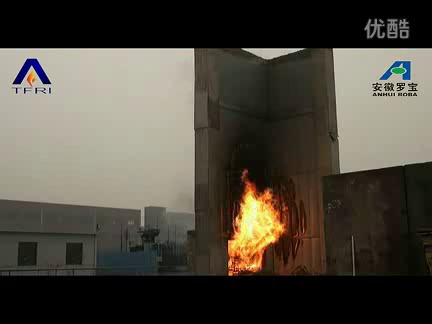fire: (225, 169, 290, 278)
